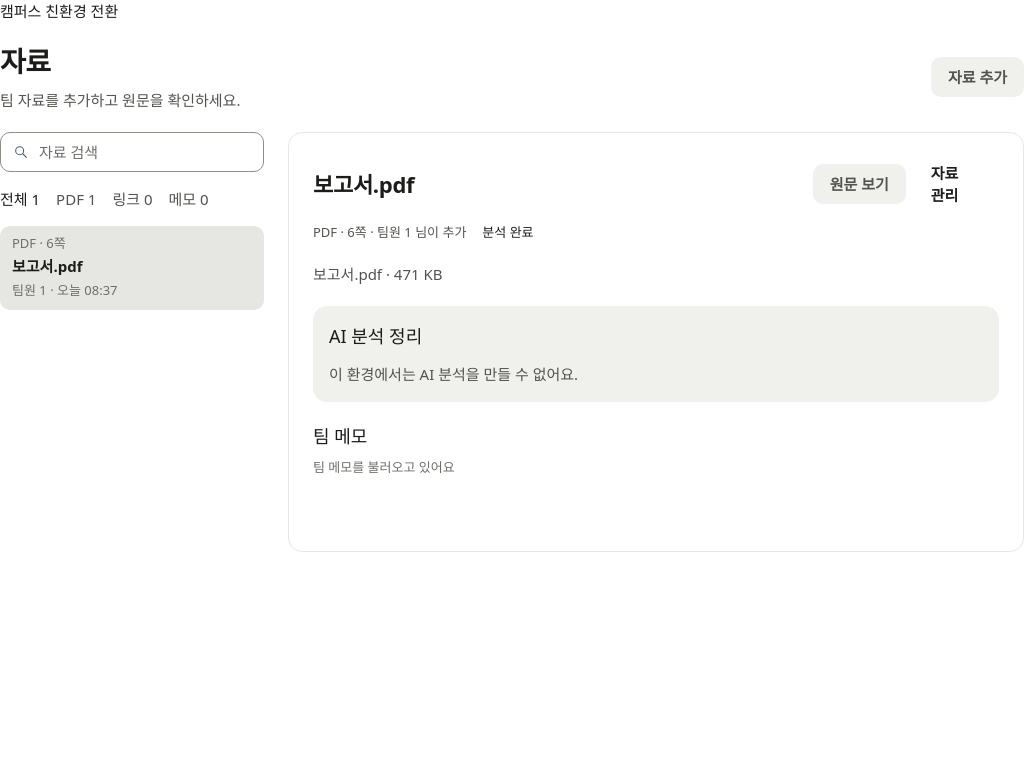
Test: 원문 주소가 만료되면 다시 발급받고 보던 쪽을 유지한다
Click the button "원문 보기" at (859, 184), box [813,164,906,204]
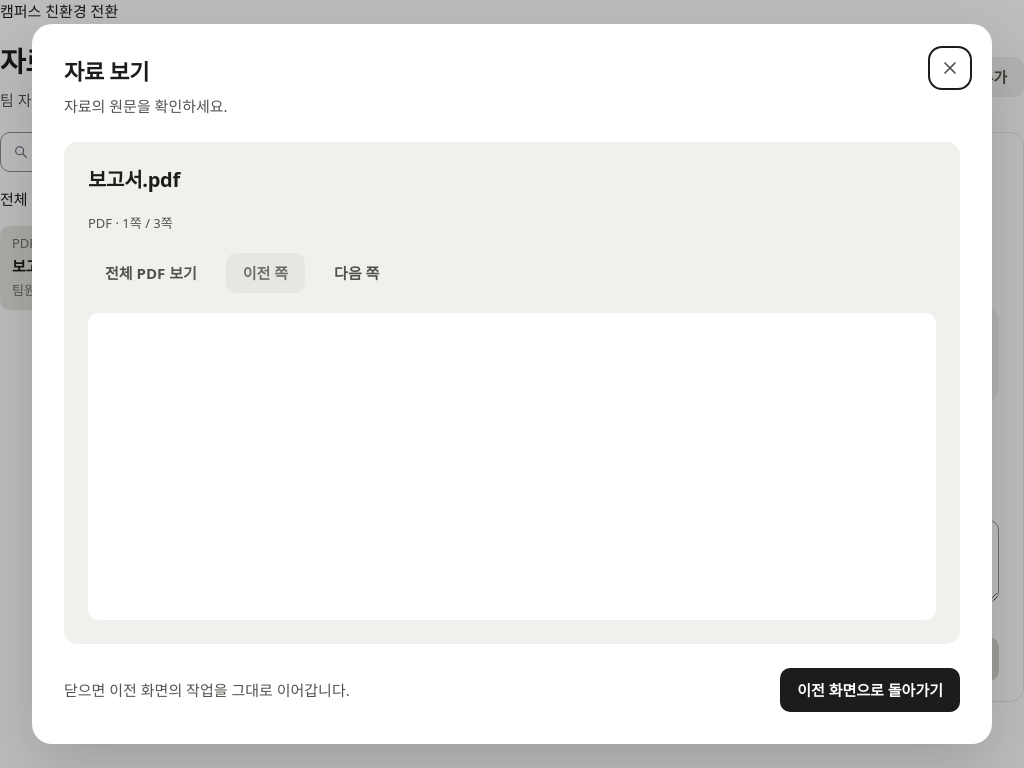
Check: the text "PDF · 1쪽 / 3쪽" is shown, box [88,214,173,232]
Click the button "다음 쪽" at (357, 273), box [317,253,396,293]
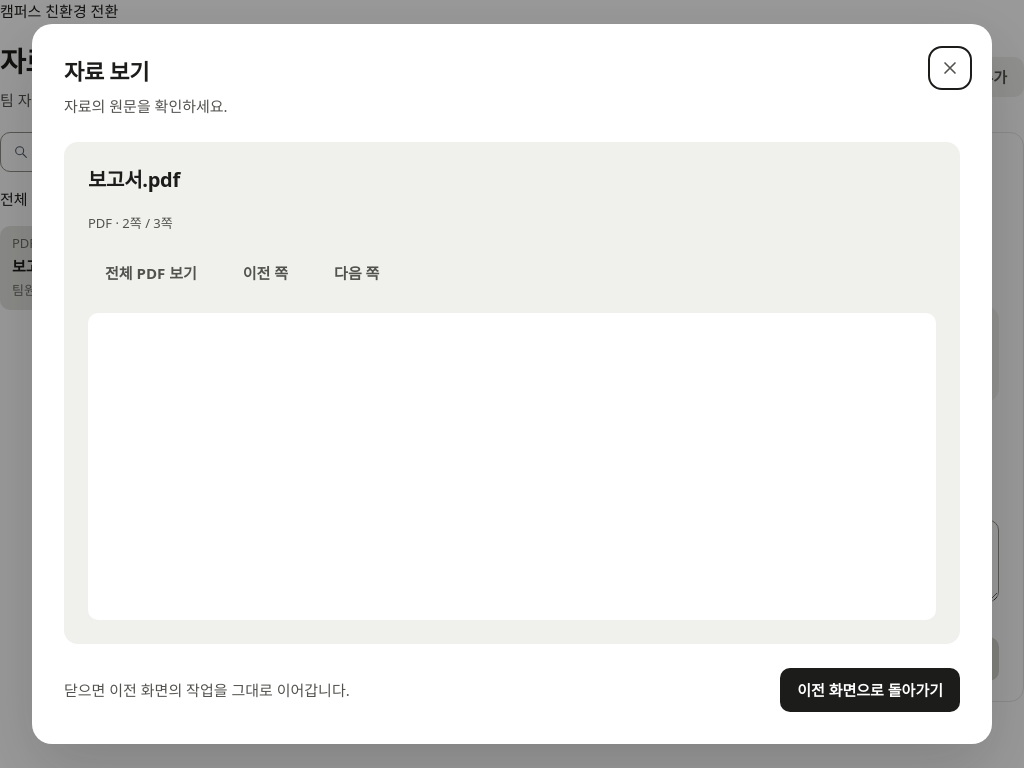
Click the button "다음 쪽" at (357, 273), box [317,253,396,293]
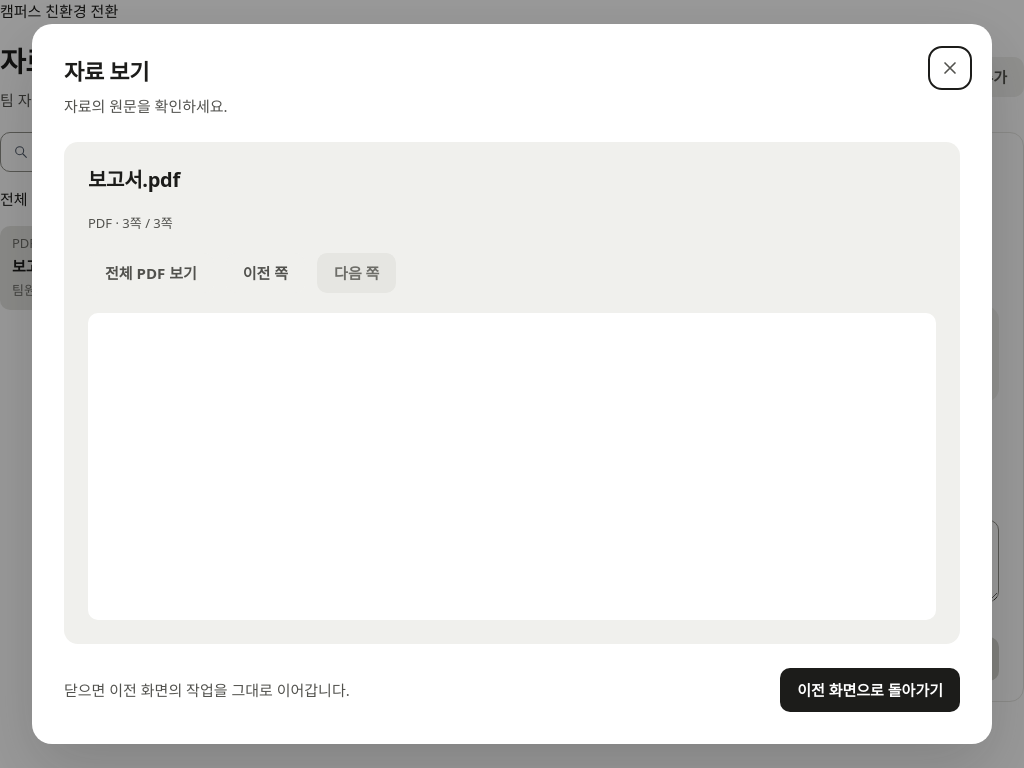
Check: the text "PDF · 3쪽 / 3쪽" is shown, box [88,214,173,232]
